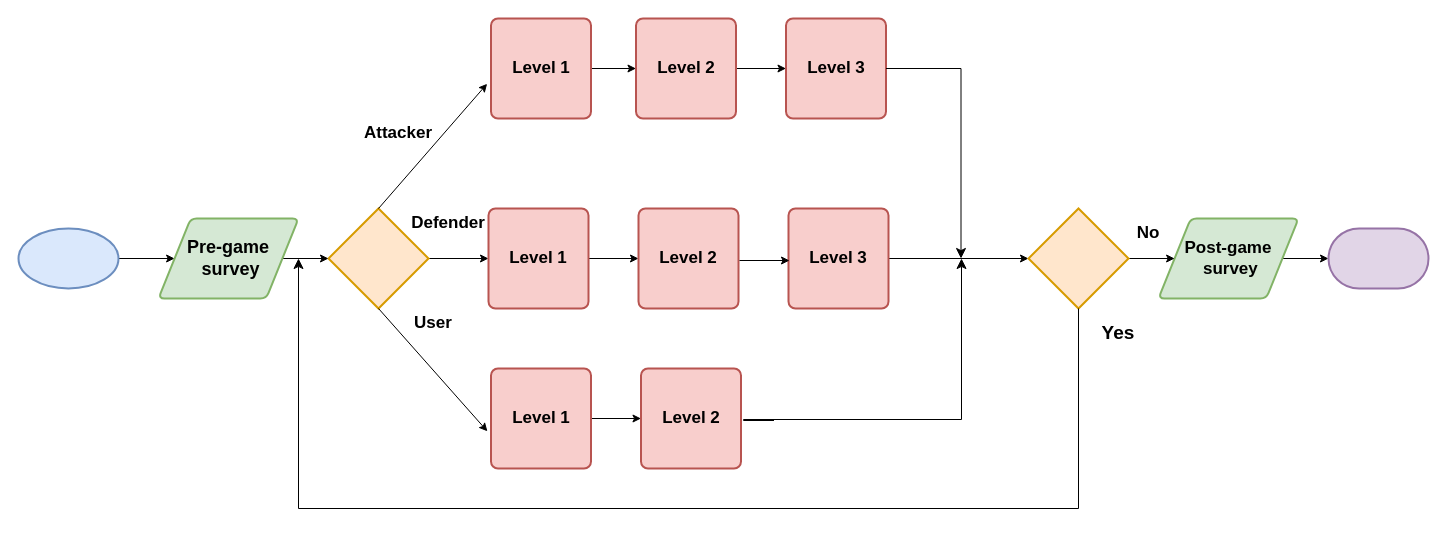
This 1446x536 diagram has some shape labels left out. Each missing label, with the centre of its shape:
Exit: (x=1378, y=258)
Play again?: (x=1078, y=258)
Select Role: (x=378, y=258)
Start: (x=68, y=258)
